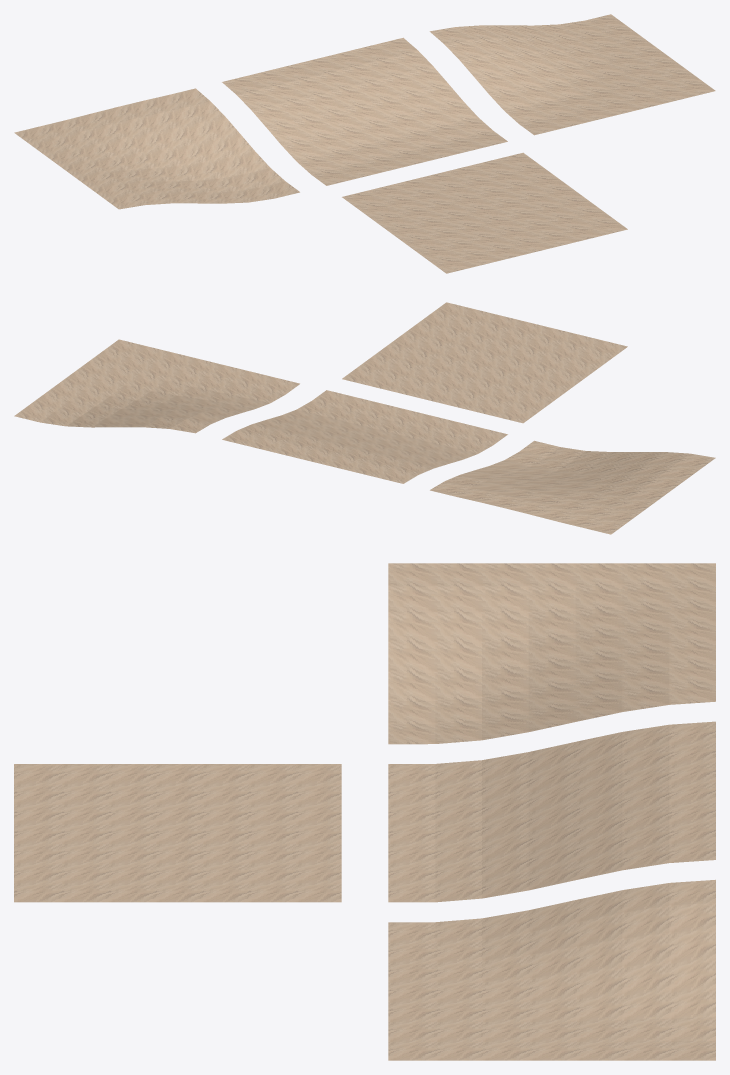
The model's file is sand_tiles.glb.
3 views of the same model, one above another, from view 1: azimuth 30°, elevation 25°; view 2: azimuth 150°, elevation 25°; view 3: azimuth 270°, elevation 25° (orthographic). The views are drawn at different scales.
Visible parts, largest first — view 1: hill-1-col, hill-1-inner-corner-col, hill-1-outer-corner-col, normal-col; view 2: normal-col, hill-1-outer-corner-col, hill-1-inner-corner-col, hill-1-col; view 3: hill-1-inner-corner-col, hill-1-outer-corner-col, hill-1-col, normal-col.
Boxes of the visible parts, left/top/right/bottom form: hill-1-col: left=222, top=37, right=507, bottom=185; hill-1-inner-corner-col: left=14, top=88, right=299, bottom=209; hill-1-outer-corner-col: left=429, top=14, right=715, bottom=135; normal-col: left=342, top=152, right=627, bottom=273; normal-col: left=342, top=302, right=627, bottom=423; hill-1-outer-corner-col: left=14, top=339, right=299, bottom=433; hill-1-inner-corner-col: left=430, top=440, right=715, bottom=534; hill-1-col: left=222, top=390, right=507, bottom=483; hill-1-inner-corner-col: left=388, top=563, right=715, bottom=744; hill-1-outer-corner-col: left=388, top=879, right=715, bottom=1060; hill-1-col: left=388, top=721, right=715, bottom=902; normal-col: left=14, top=764, right=341, bottom=902.
Bounding box in the file's own units: 23 × 1.02 × 15.
1 material, 1 textured.
